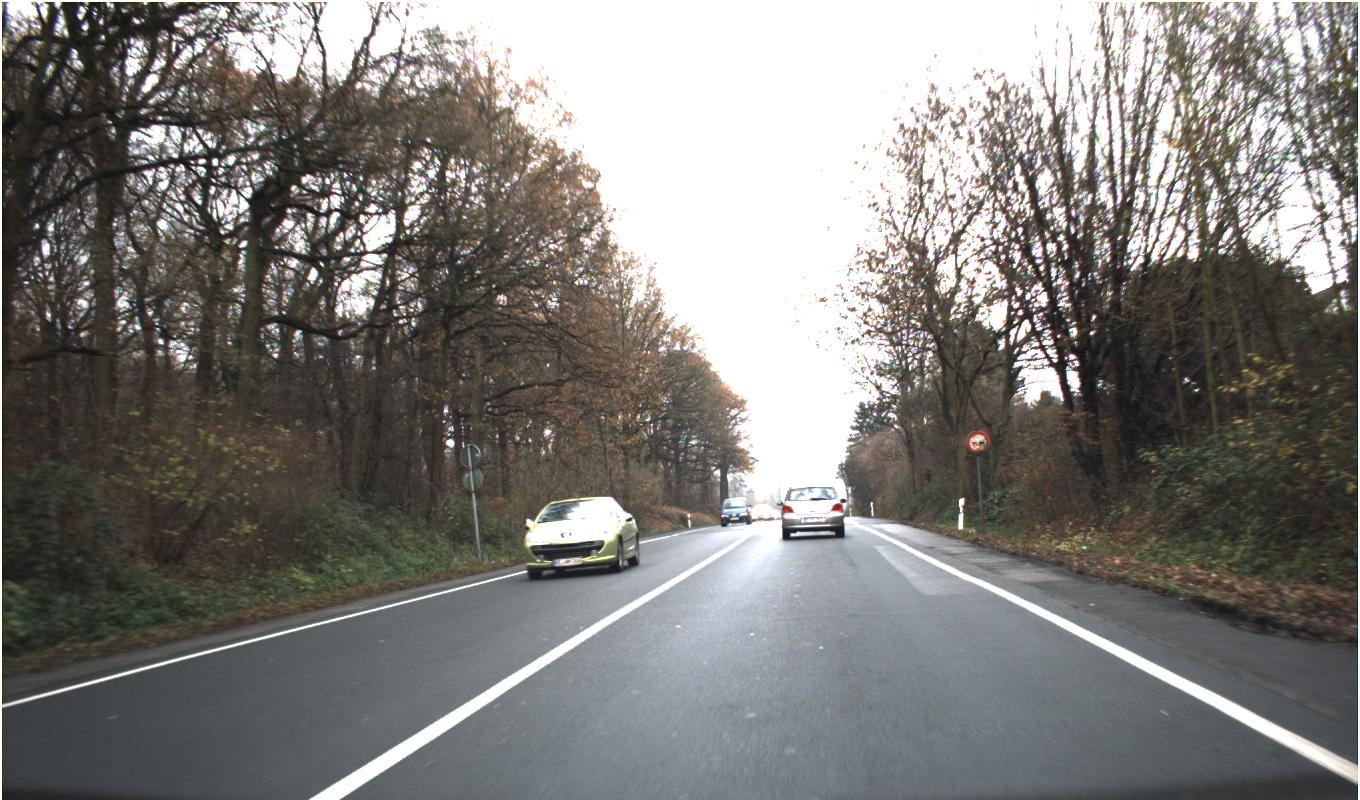prohibitory: (966, 430, 990, 454)
